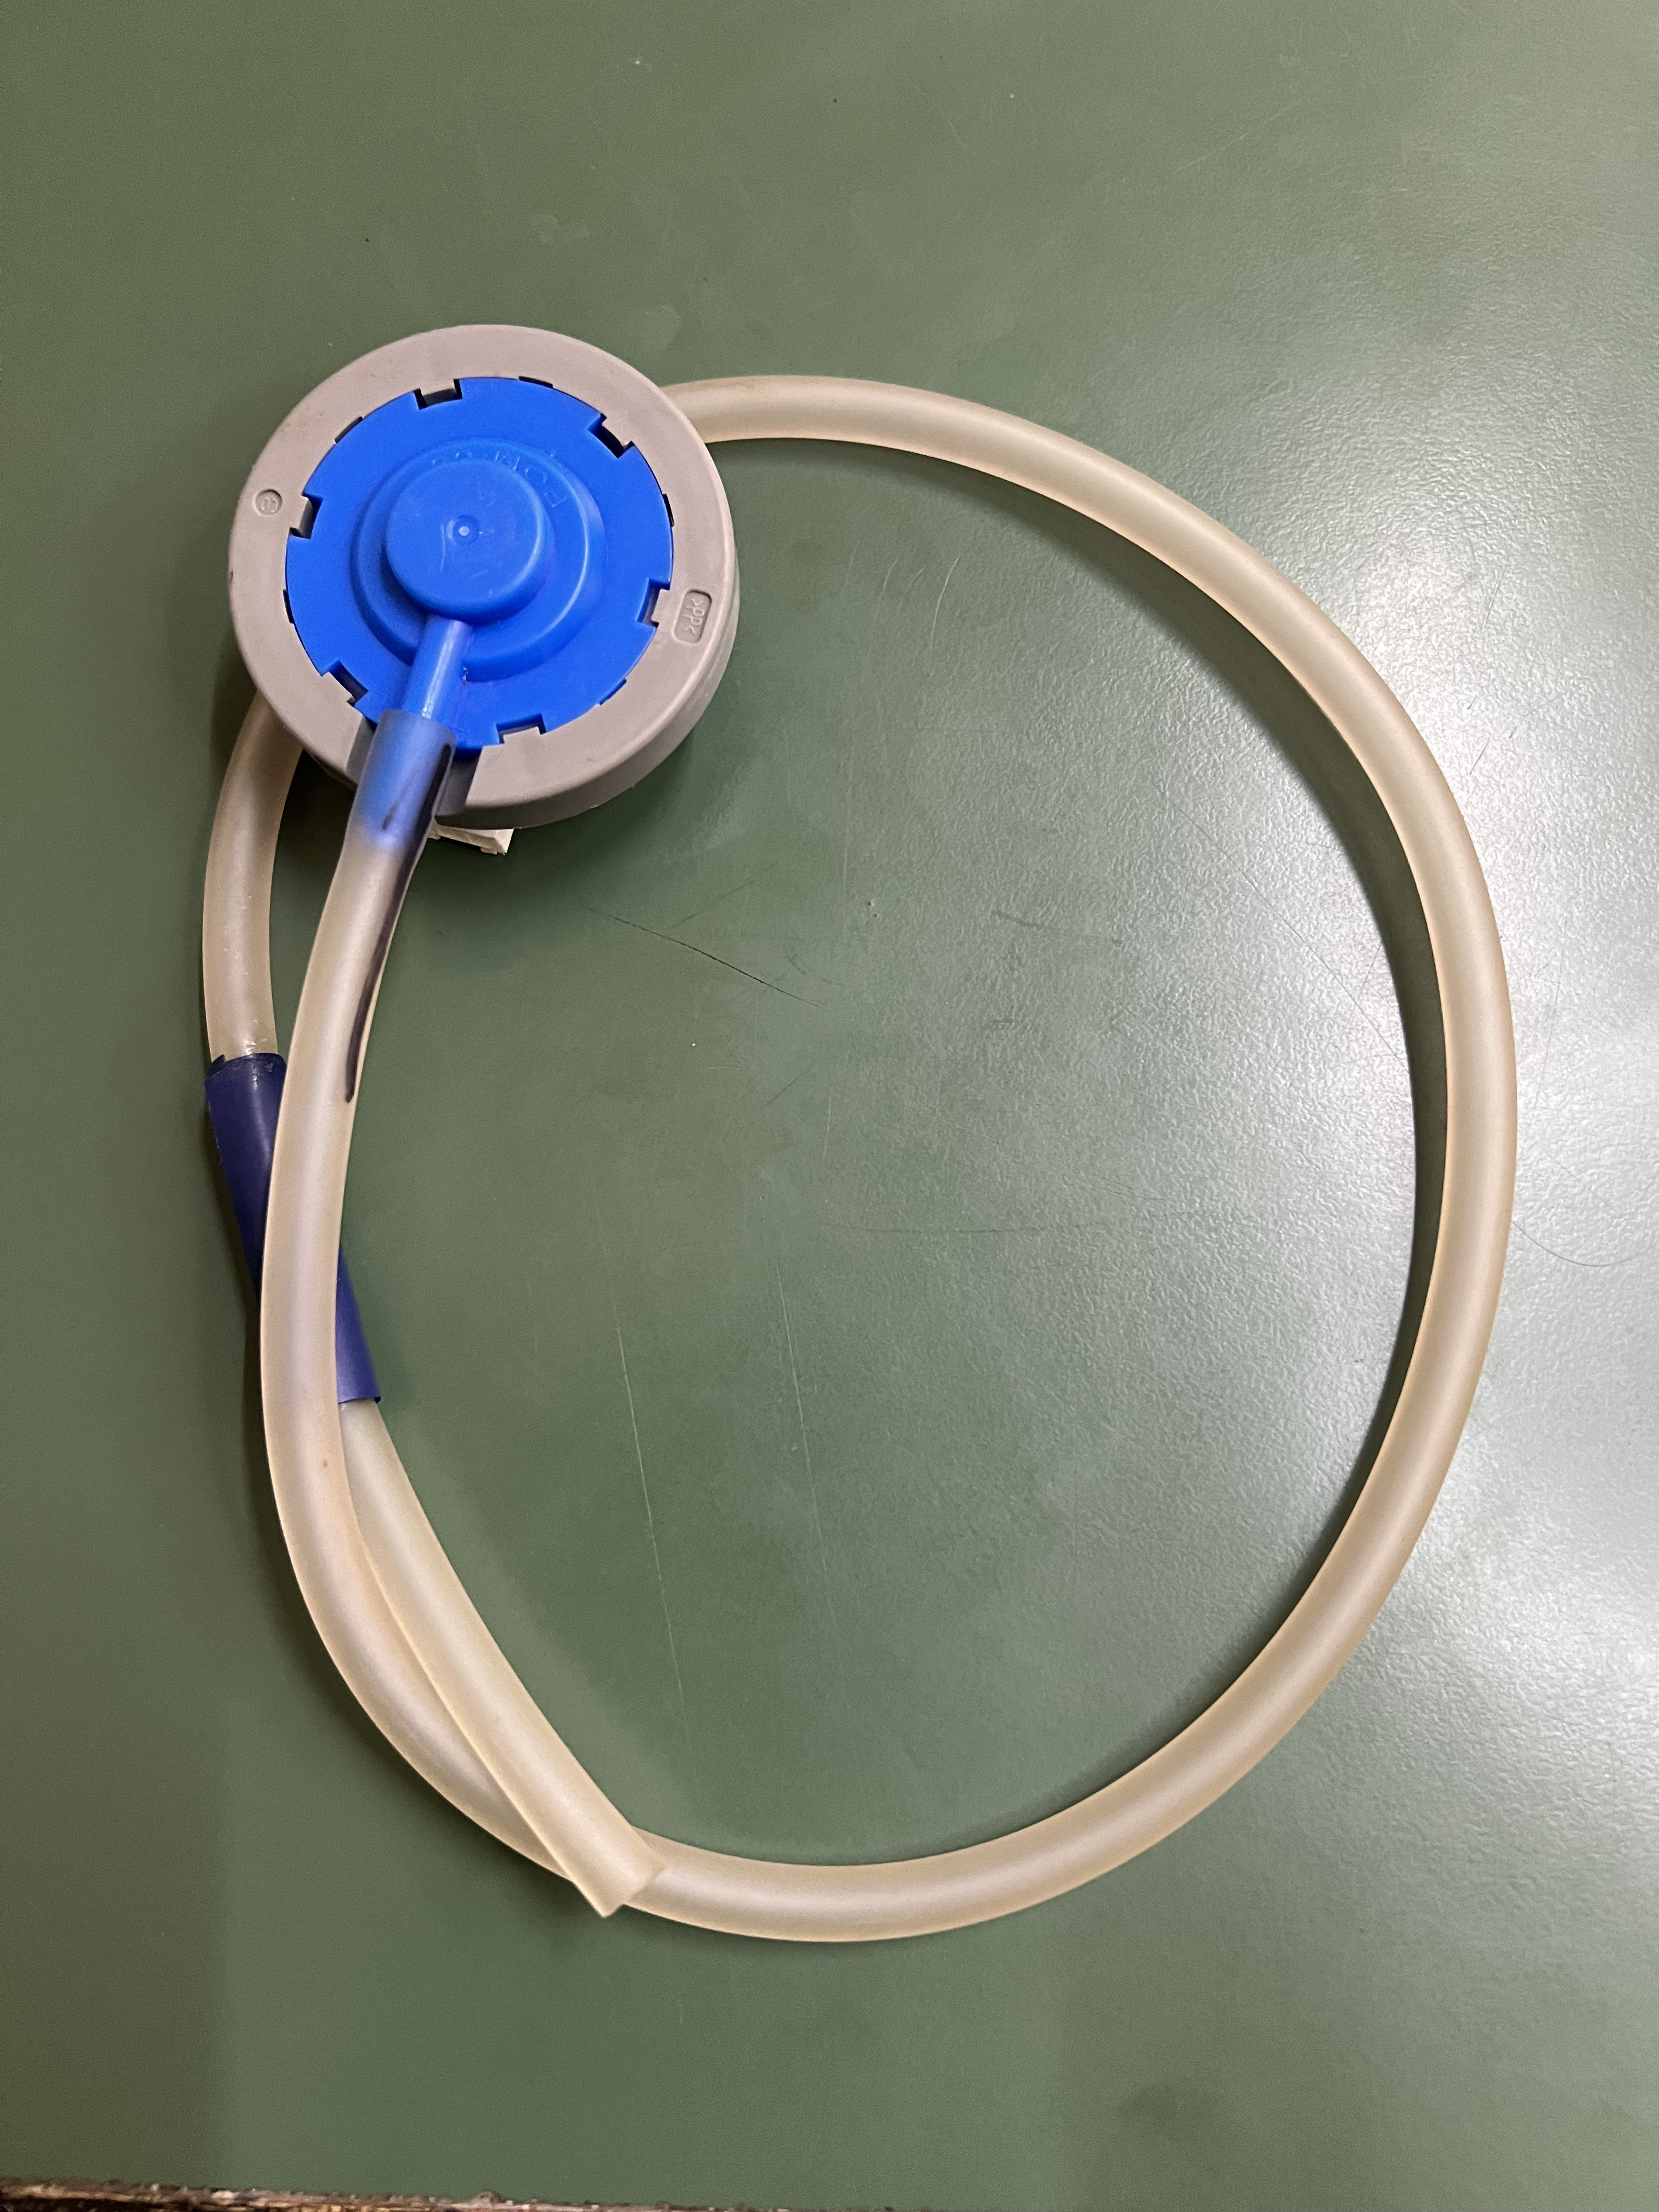pressure_sensor: (204, 312, 1523, 1952)
